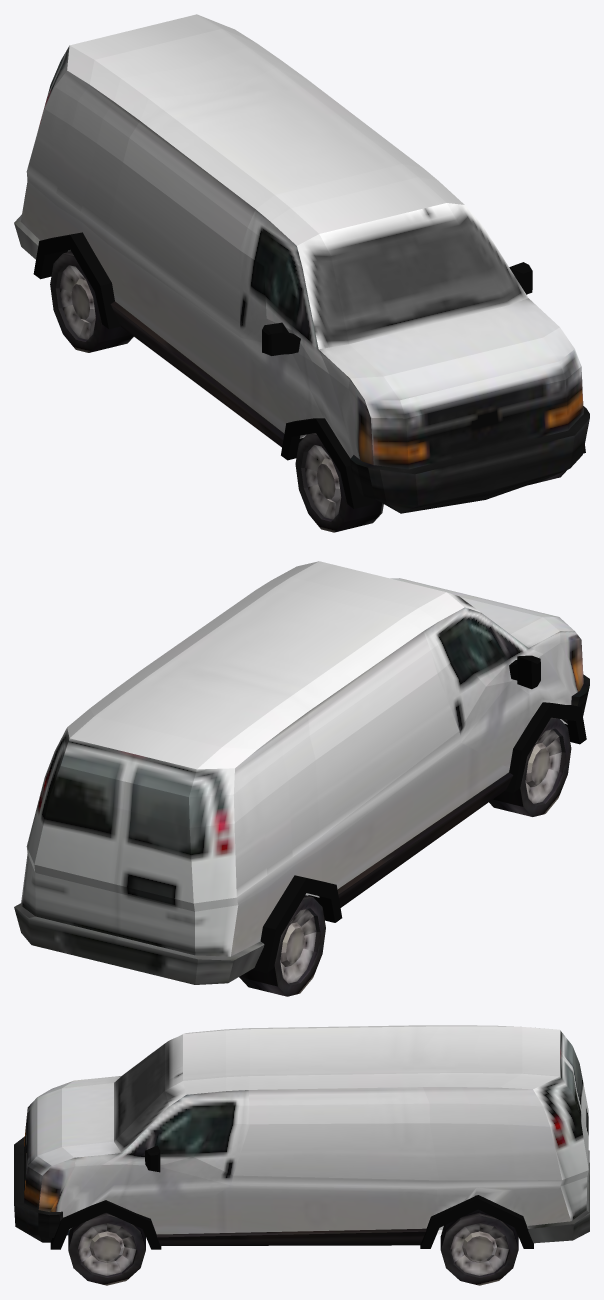
File: van.fbx
The picture shows the model from 3 angles, top to bottom: view 1: azimuth 30°, elevation 25°; view 2: azimuth 150°, elevation 25°; view 3: azimuth 270°, elevation 25°; orthographic projection. The views are drawn at different scales.
Parts seen in each view (by area): view 1: Cube, Cylinder.005, Cylinder.004, Cylinder, Cylinder.001, Cube.001; view 2: Cube, Cylinder.004, Cylinder.005, Cylinder, Cylinder.001, Cube.001; view 3: Cube, Cylinder.002, Cylinder.008, Cylinder.007, Cylinder.003, Cube.001.
Part boxes in pixels (x1,y1,x2,y2): Cube: (14, 14, 589, 513); Cylinder.005: (295, 433, 383, 532); Cylinder.004: (50, 251, 133, 352); Cylinder: (33, 232, 120, 329); Cylinder.001: (281, 418, 373, 508); Cube.001: (262, 262, 532, 355); Cube: (14, 561, 589, 984); Cylinder.004: (239, 895, 325, 996); Cylinder.005: (489, 717, 571, 816); Cylinder: (252, 875, 342, 973); Cylinder.001: (505, 702, 586, 792); Cube.001: (509, 655, 540, 689); Cube: (14, 1025, 589, 1245); Cylinder.002: (440, 1209, 518, 1285); Cylinder.008: (68, 1212, 145, 1285); Cylinder.007: (420, 1195, 533, 1248); Cylinder.003: (50, 1200, 161, 1249); Cube.001: (145, 1145, 160, 1172).
Size of the model in its own units: 344 by 316 by 850.
